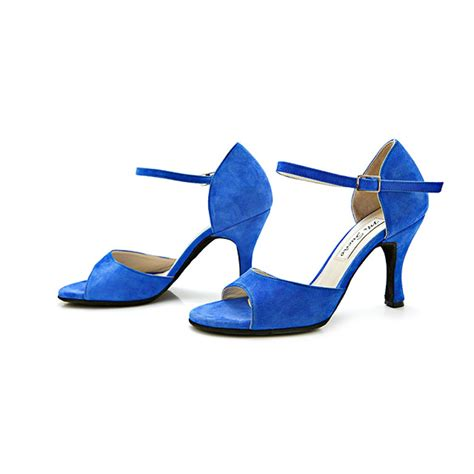gamuza: (56, 139, 428, 329)
